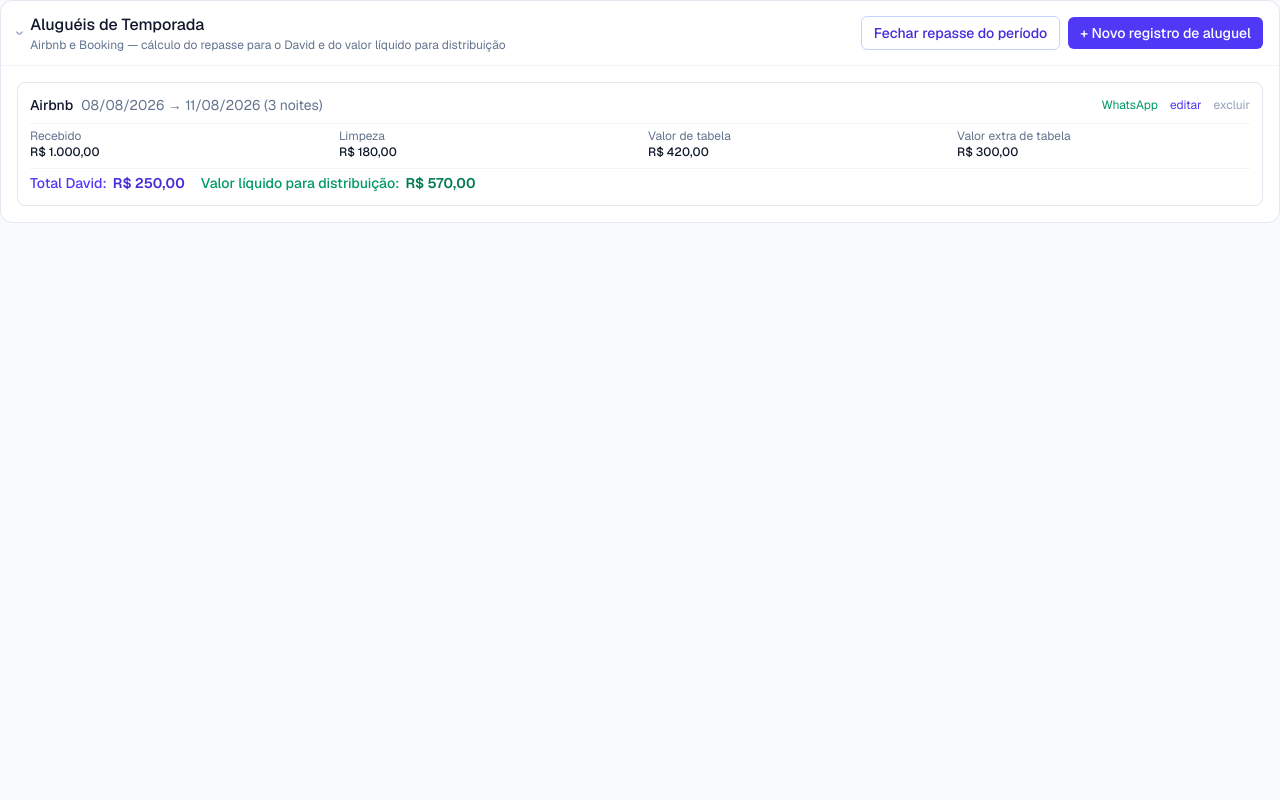
Scenario: SeasonalRentalsSection — exclusão › pede confirmação avisando que a receita também será removida
The width and height of the screenshot is (1280, 800).
Expected: the text "Airbnb" is shown, top-left (30, 96), bottom-right (73, 114)
Step 1. Click the button "excluir" → (1232,105), box top-left (1214, 97), bottom-right (1250, 113)
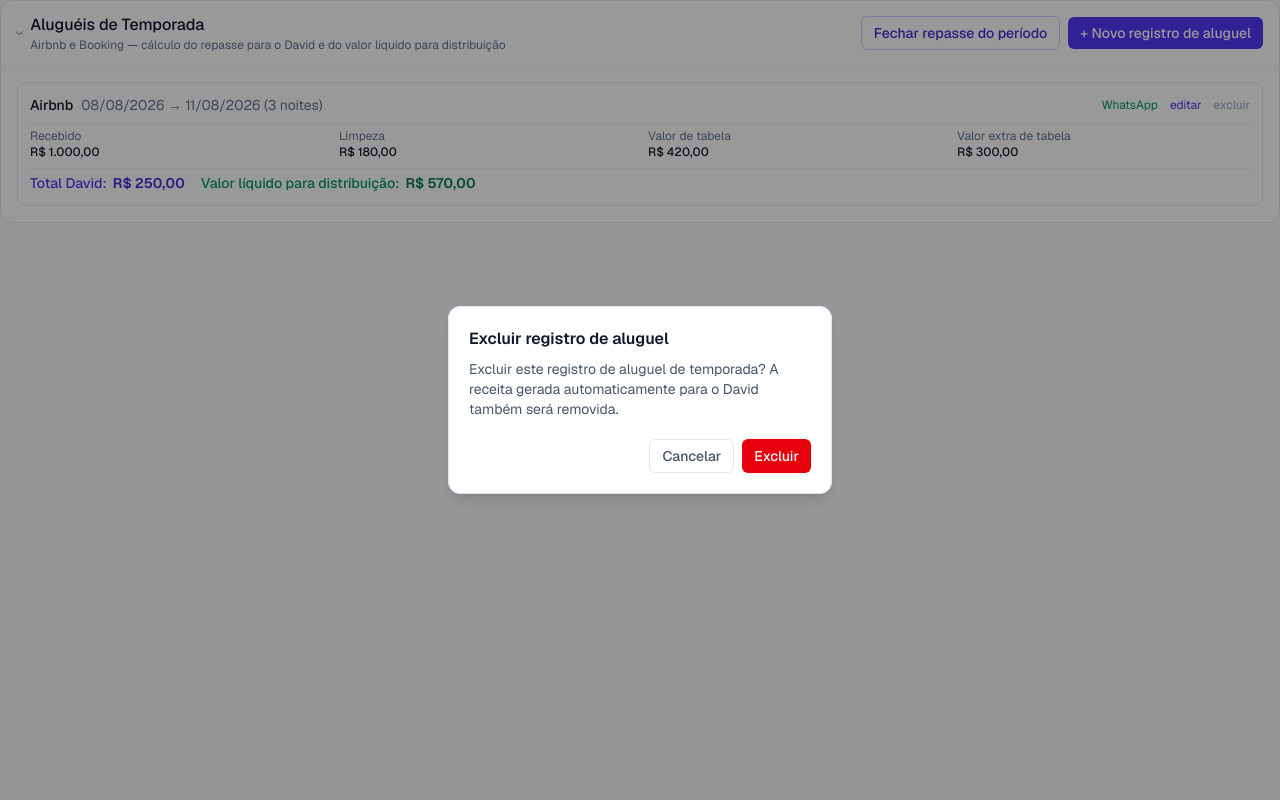
Expected: the heading "Excluir registro de aluguel" is shown, top-left (469, 328), bottom-right (669, 349)
Expected: the text "receita gerada automaticamente" is shown, top-left (469, 360), bottom-right (779, 418)
